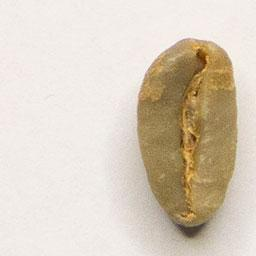longberry: (134, 33, 240, 232)
